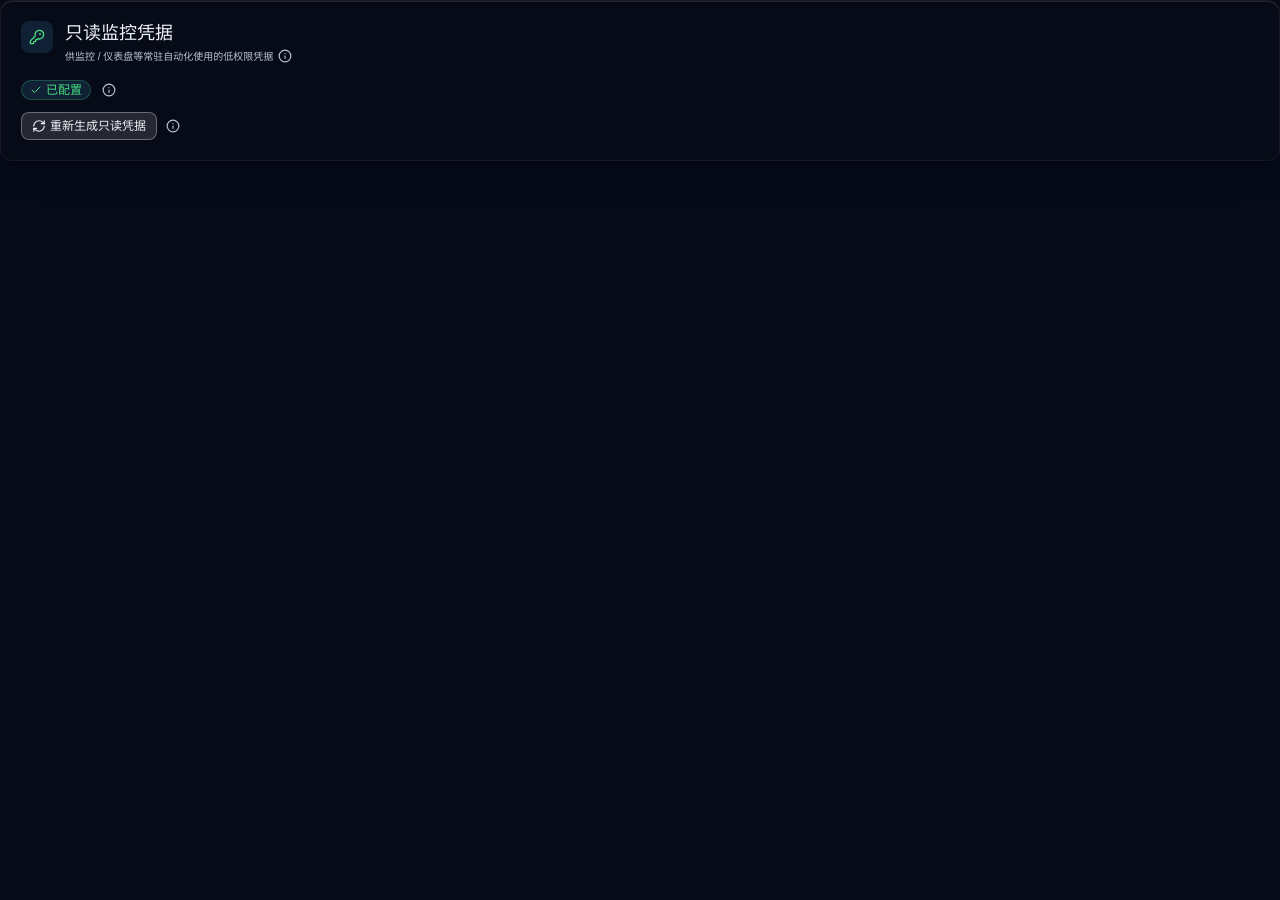
Scenario: ReadonlyCredentialPanel 生成与明文一次性展示 › 已配置时重新生成：先二次确认（旧凭据立即失效），取消则不发生成动作
Click the button "重新生成只读凭据": (89, 126) top-left (21, 112), bottom-right (157, 140)
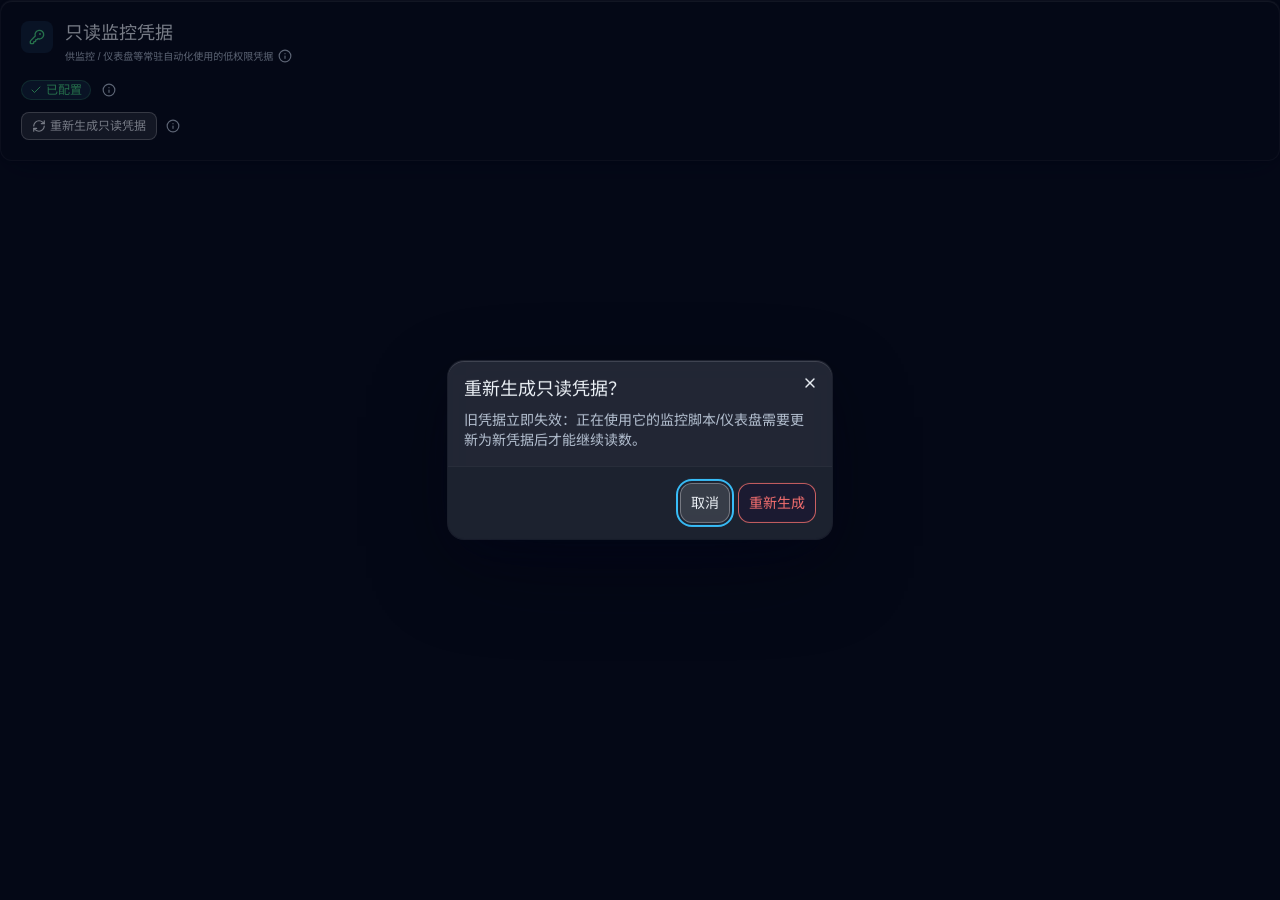
Expected: the text "旧凭据立即失效：正在使用它的监控脚本/仪表盘需要更新为新凭据后才能继续读数。" is shown, top-left (464, 410), bottom-right (816, 450)
Click the button "取消": (705, 503) top-left (680, 483), bottom-right (730, 523)
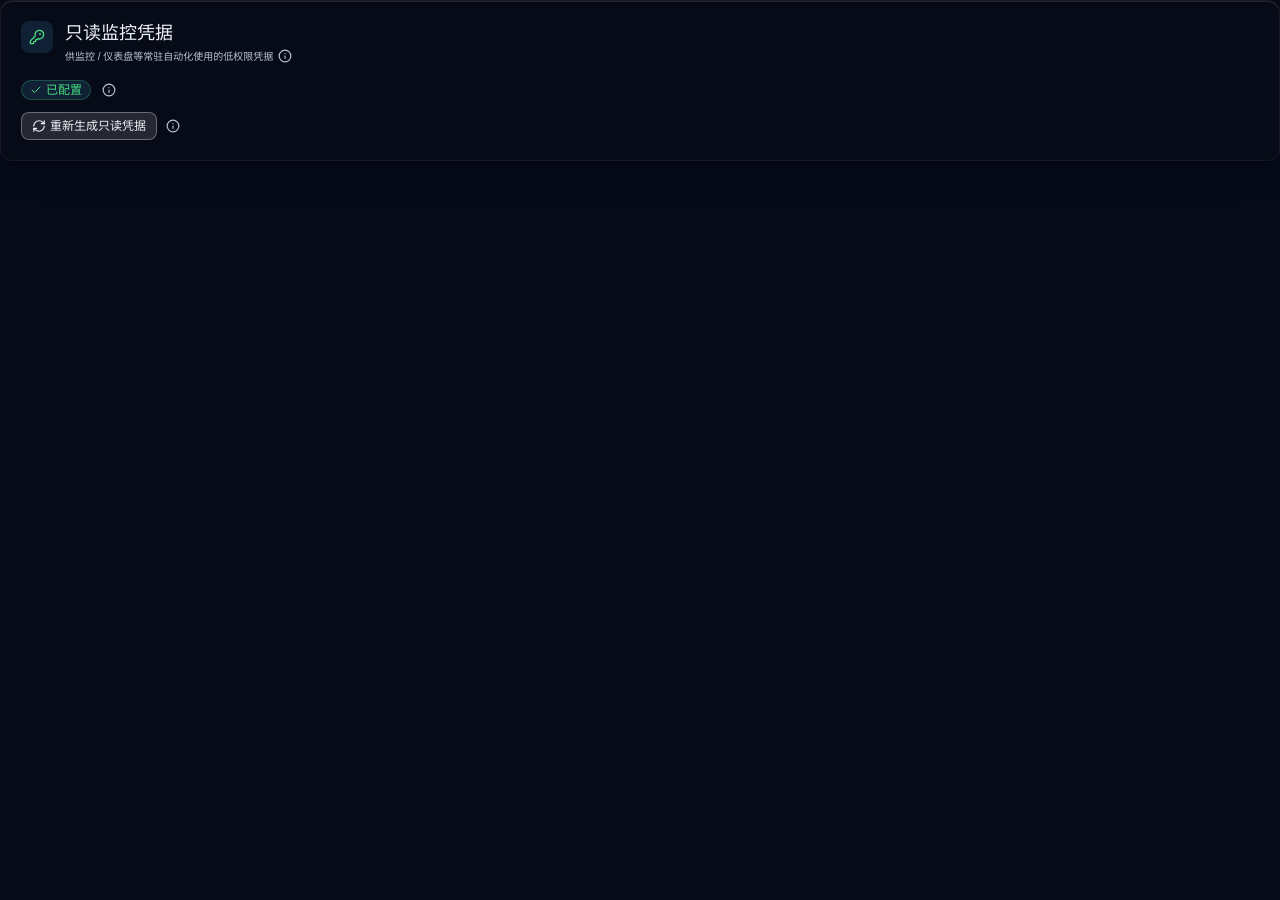
Expected: the dialog is gone
# 确认后才真正调用，并展示明文
Click the button "重新生成只读凭据": (89, 126) top-left (21, 112), bottom-right (157, 140)
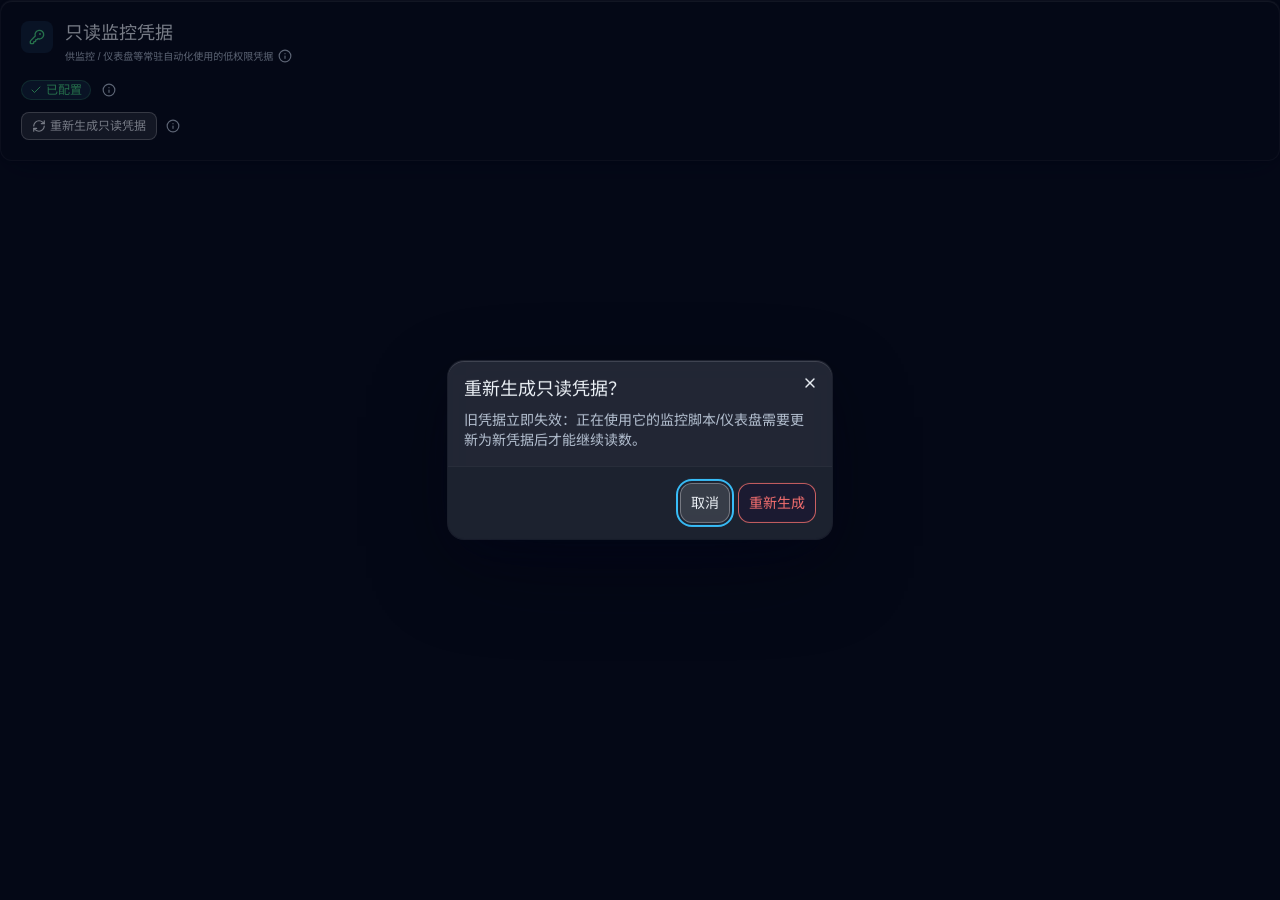
Click the button "重新生成": (777, 503) top-left (738, 483), bottom-right (816, 523)
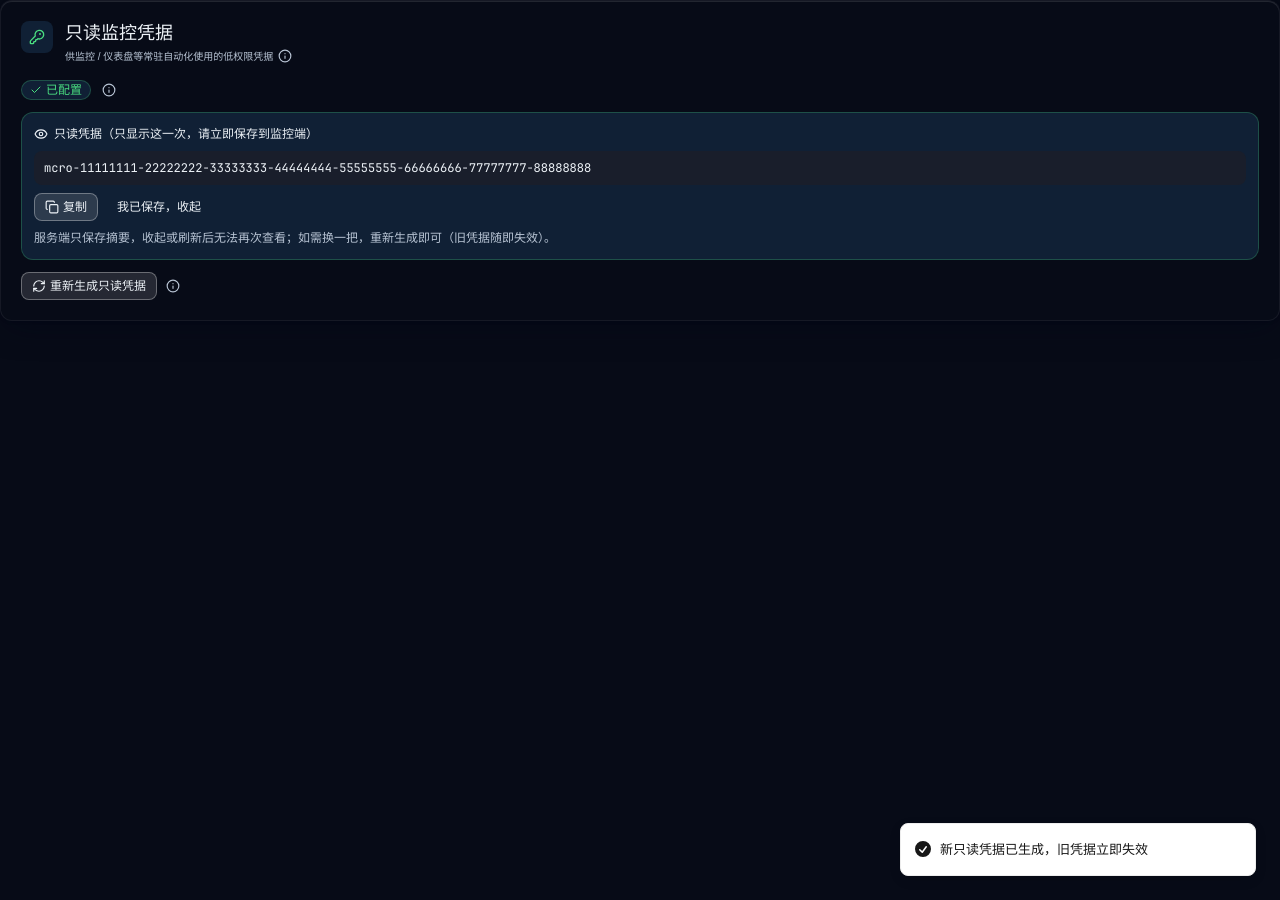
Expected: the text "mcro-11111111-22222222-33333333-44444444-55555555-66666666-77777777-88888888" is shown, top-left (34, 151), bottom-right (1246, 185)
